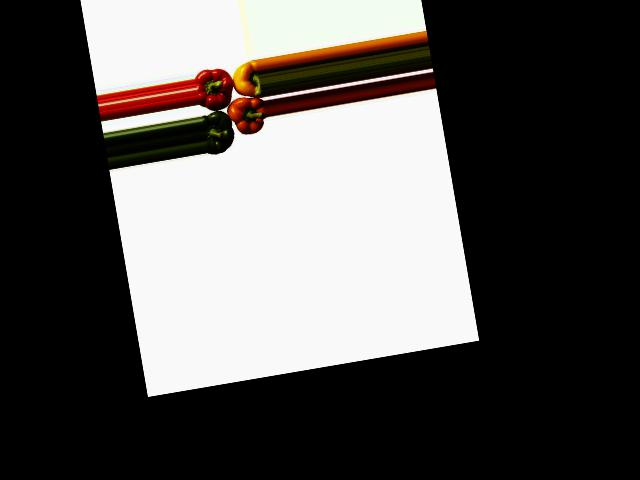bell_pepper: (227, 58, 263, 103)
